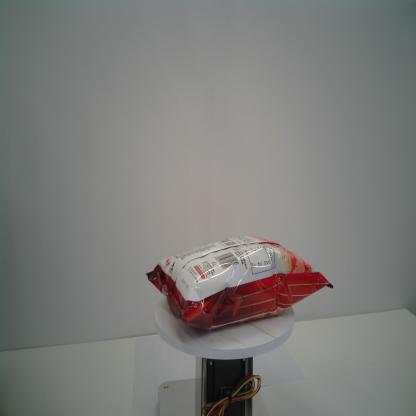Puffed Food: (144, 234, 334, 332)
